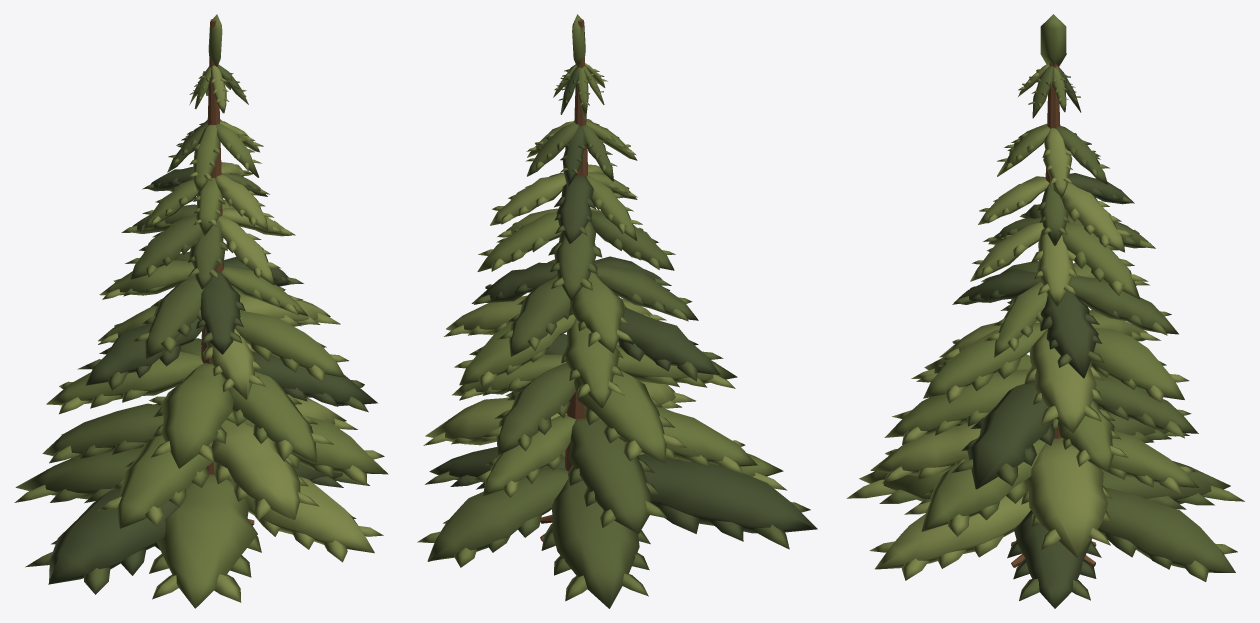
File: pine-2.glb
The picture shows the model from 3 angles, left to right: view 1: azimuth 30°, elevation 25°; view 2: azimuth 150°, elevation 25°; view 3: azimuth 270°, elevation 25°; orthographic projection. The views are drawn at different scales.
Parts seen in each view (by area): view 1: pine-2; view 2: pine-2; view 3: pine-2.
Part boxes in pixels (bbox=[...]): pine-2: bbox=[14, 14, 388, 608]; pine-2: bbox=[417, 14, 817, 608]; pine-2: bbox=[846, 14, 1244, 608].
Bounding box in the file's own units: 5.45 × 7.75 × 5.08.
